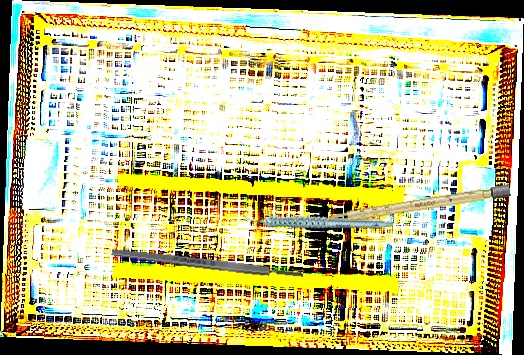Handpiece: (240, 181, 395, 259)
Scalpel Handle: (323, 184, 511, 226), (111, 246, 304, 281)
